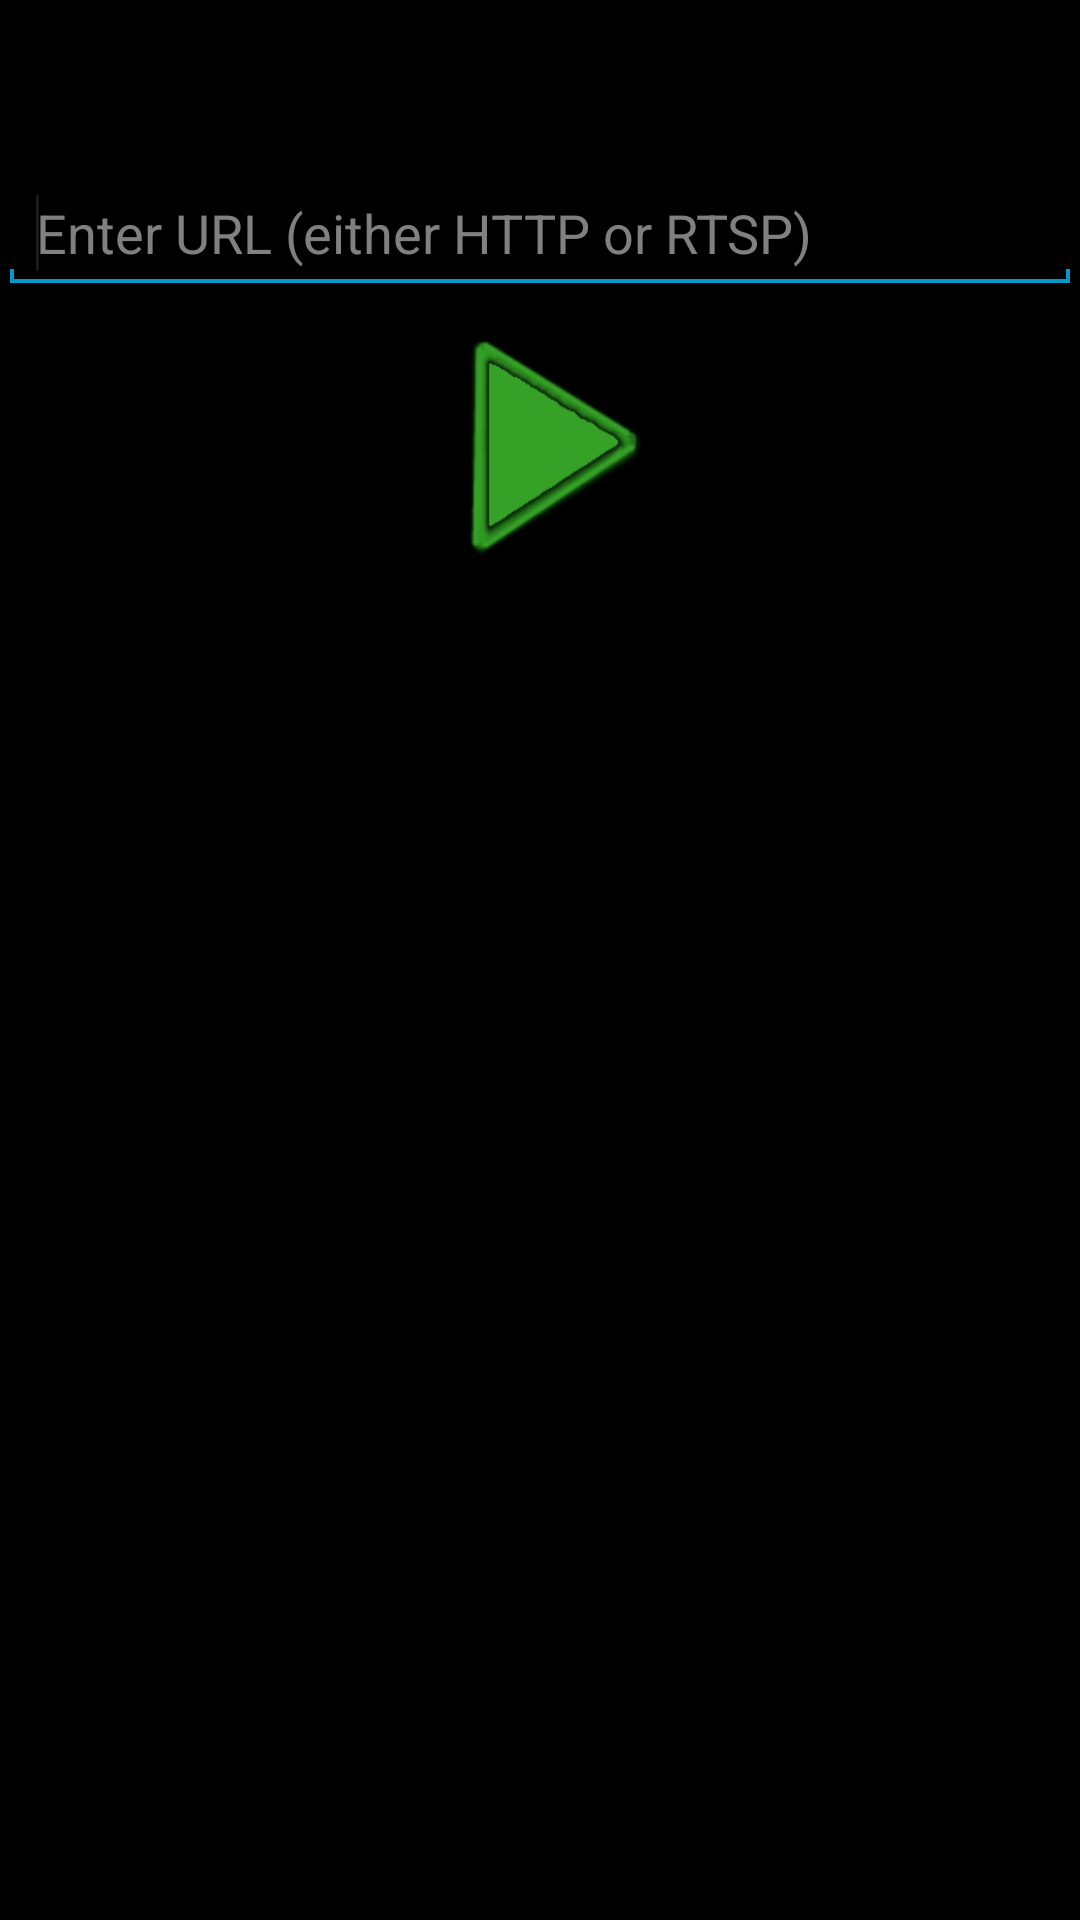

Icon click points for this 1080w x 1920h phone screenshot, format point (x, y):
Play/Stop: point (554, 446)
